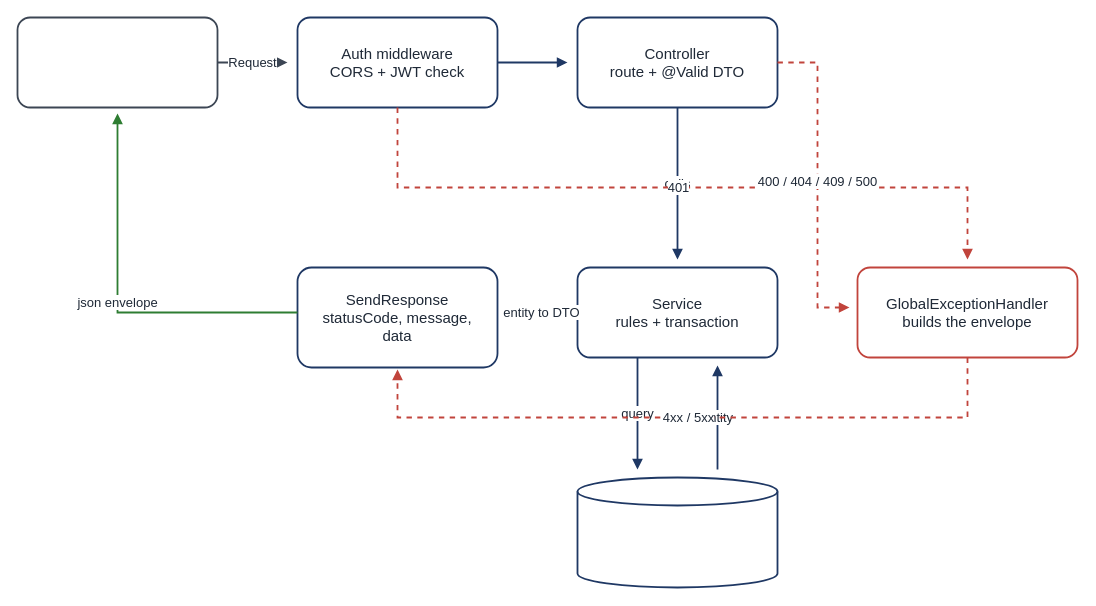
Image size: 1096x606. Some labels were removed from this diagram. Each missing label, with the centre of its shape:
Flutter web client (Netlify): point 117,62
Neon PostgreSQL JPA / Hibernate: point 677,532
